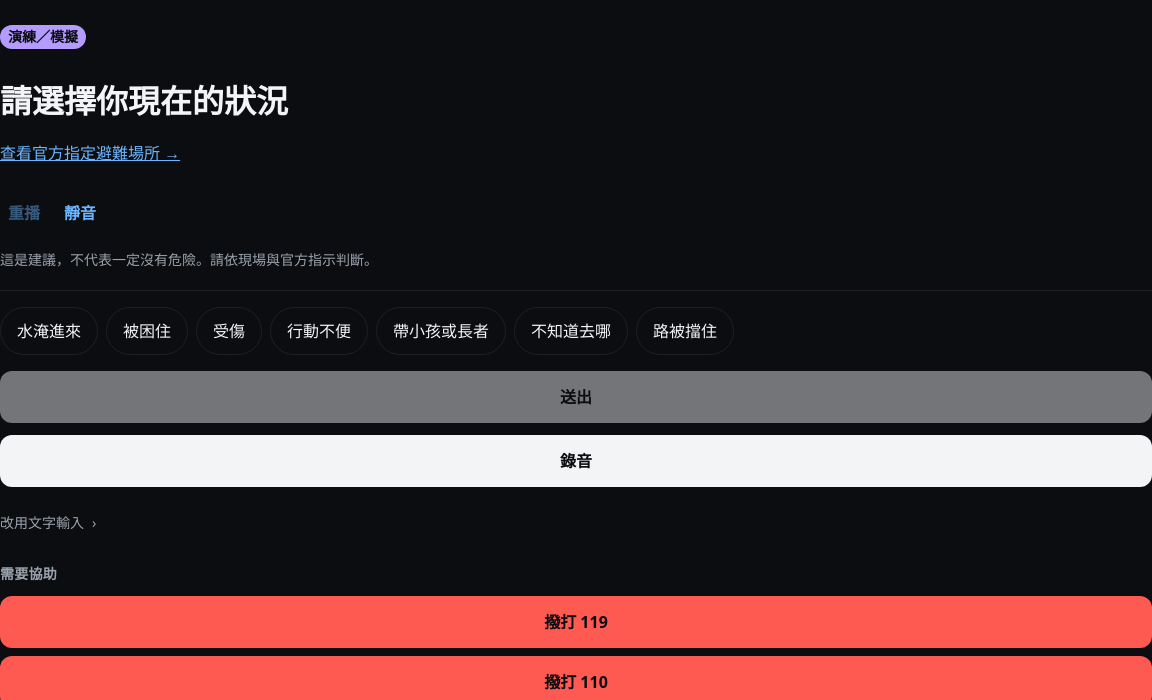
it: shows a microphone-unavailable line when permission is denied
Click the button "錄音".
click(576, 460)  # box 0,434 -> 1151,486
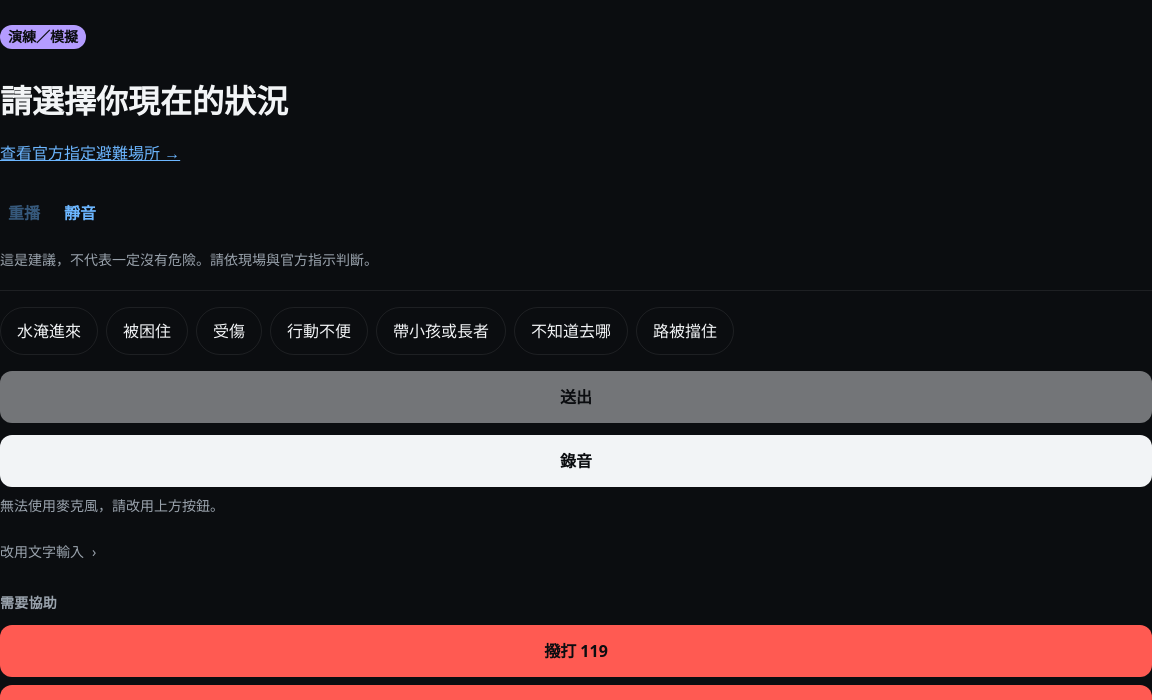
Now the text "無法使用麥克風，請改用上方按鈕。" is shown, box 0,496 -> 224,514
